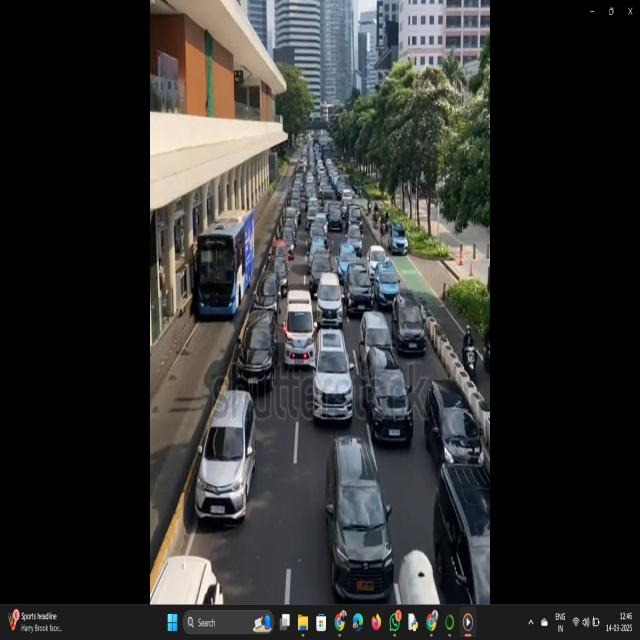Ambulance: (282, 291, 314, 373)
